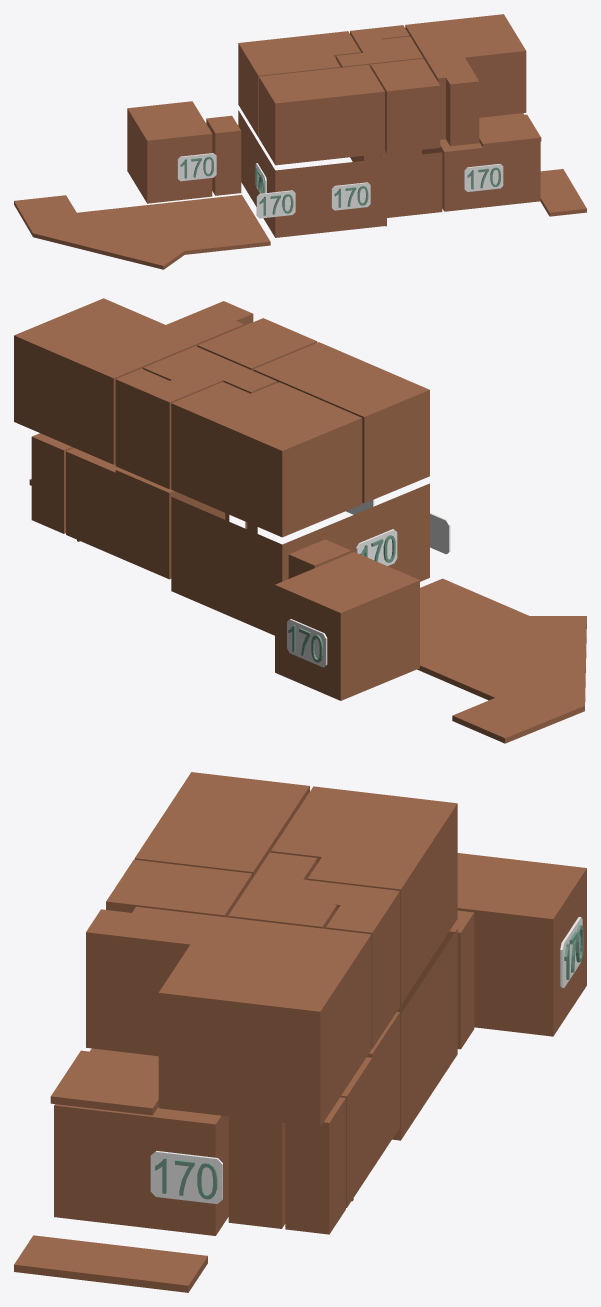
3 renders of one model, top to bottom at view 1: azimuth 30°, elevation 25°; view 2: azimuth 150°, elevation 25°; view 3: azimuth 270°, elevation 25°, orthographic. The views are drawn at different scales.
Visible parts, largest first — view 1: g_12, g_1, g_7, g_11, g_5, g_0, g_9, g_6, g_4, g_8, g_14, g_13 (+5 smaller); view 2: g_6, g_12, g_11, g_1, g_5, g_7, g_2, g_10, g_9, g_8, g_3, g_4 (+3 smaller); view 3: g_11, g_6, g_5, g_0, g_2, g_7, g_1, g_13, g_3, g_9, g_10, g_8 (+4 smaller).
Boxes of the visible parts, x1,y1,x2,y2 form: g_12: [14, 194, 270, 269]; g_1: [238, 110, 442, 237]; g_7: [259, 64, 384, 165]; g_11: [405, 14, 526, 146]; g_5: [127, 101, 212, 203]; g_0: [422, 113, 540, 211]; g_9: [370, 58, 440, 153]; g_6: [238, 31, 360, 137]; g_4: [206, 115, 241, 195]; g_8: [336, 36, 423, 67]; g_14: [479, 114, 541, 147]; g_13: [540, 169, 586, 216]; g_6: [171, 382, 362, 537]; g_12: [417, 578, 586, 743]; g_11: [14, 298, 253, 464]; g_1: [171, 483, 429, 635]; g_5: [275, 552, 419, 700]; g_7: [253, 342, 429, 503]; g_2: [66, 448, 225, 579]; g_10: [115, 368, 198, 489]; g_9: [197, 318, 317, 370]; g_8: [143, 346, 277, 393]; g_3: [31, 433, 73, 533]; g_4: [288, 539, 351, 578]; g_11: [86, 906, 371, 1127]; g_6: [271, 786, 457, 1004]; g_5: [457, 853, 586, 1036]; g_0: [54, 1048, 228, 1235]; g_2: [228, 1012, 399, 1228]; g_7: [134, 772, 309, 878]; g_1: [392, 929, 457, 1140]; g_13: [14, 1235, 207, 1292]; g_3: [285, 1097, 345, 1234]; g_9: [106, 859, 251, 917]; g_10: [326, 884, 399, 1048]; g_8: [228, 852, 346, 928].
Size of the model in its own units: 18.72 by 5.35 by 10.72.
